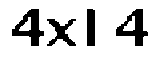4: (113, 8, 154, 50), (8, 6, 45, 51)
I: (83, 5, 104, 50)
x: (47, 15, 79, 52)
